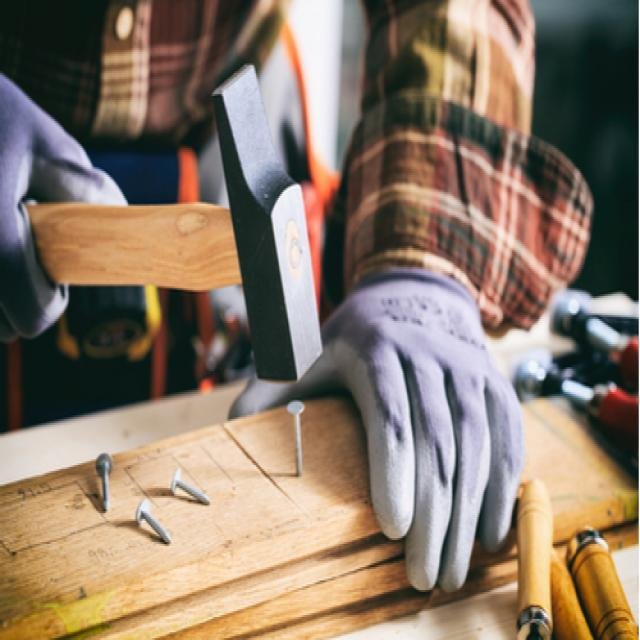gloves: (320, 266, 530, 599)
